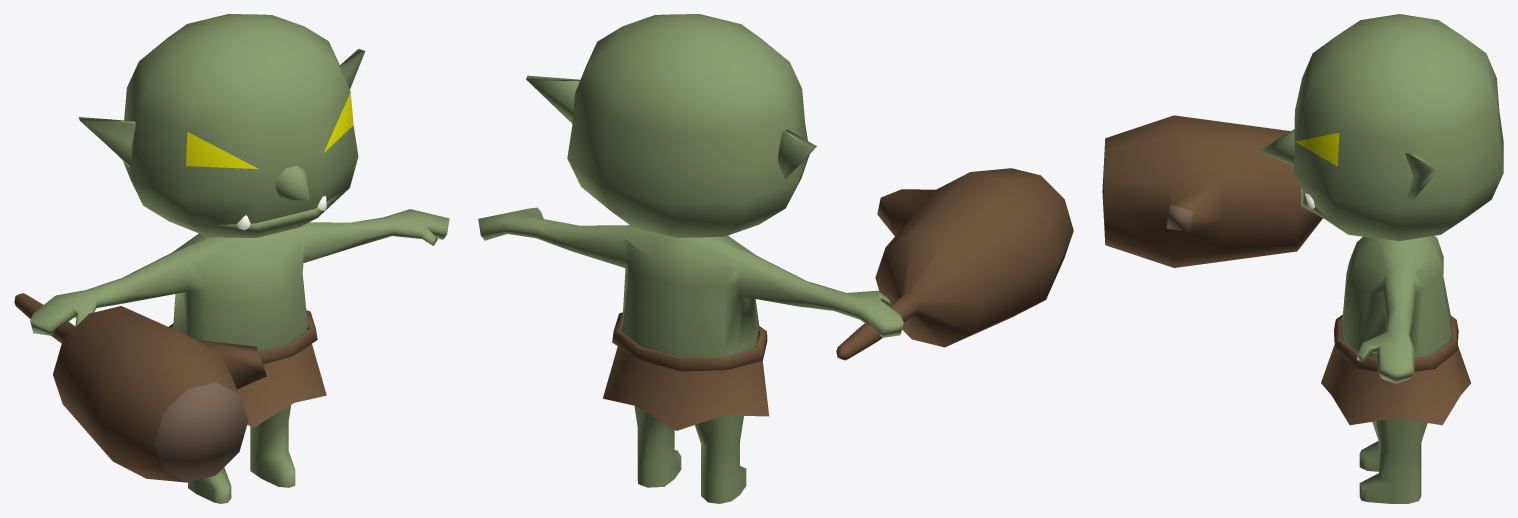
File: enemy_goburin.fbx
The picture shows the model from 3 angles, left to right: view 1: azimuth 30°, elevation 25°; view 2: azimuth 150°, elevation 25°; view 3: azimuth 270°, elevation 25°; orthographic projection.
Parts seen in each view (by area): view 1: polySurface2, polySurface1; view 2: polySurface2, polySurface1; view 3: polySurface2, polySurface1.
Part boxes in pixels (x1,y1,x2,y2): polySurface2: (30, 14, 449, 503); polySurface1: (14, 293, 266, 482); polySurface2: (478, 14, 903, 503); polySurface1: (836, 168, 1073, 360); polySurface2: (1258, 14, 1503, 503); polySurface1: (1102, 115, 1322, 267).
Bounding box in the file's own units: 1.04 × 0.9884 × 0.7901.
